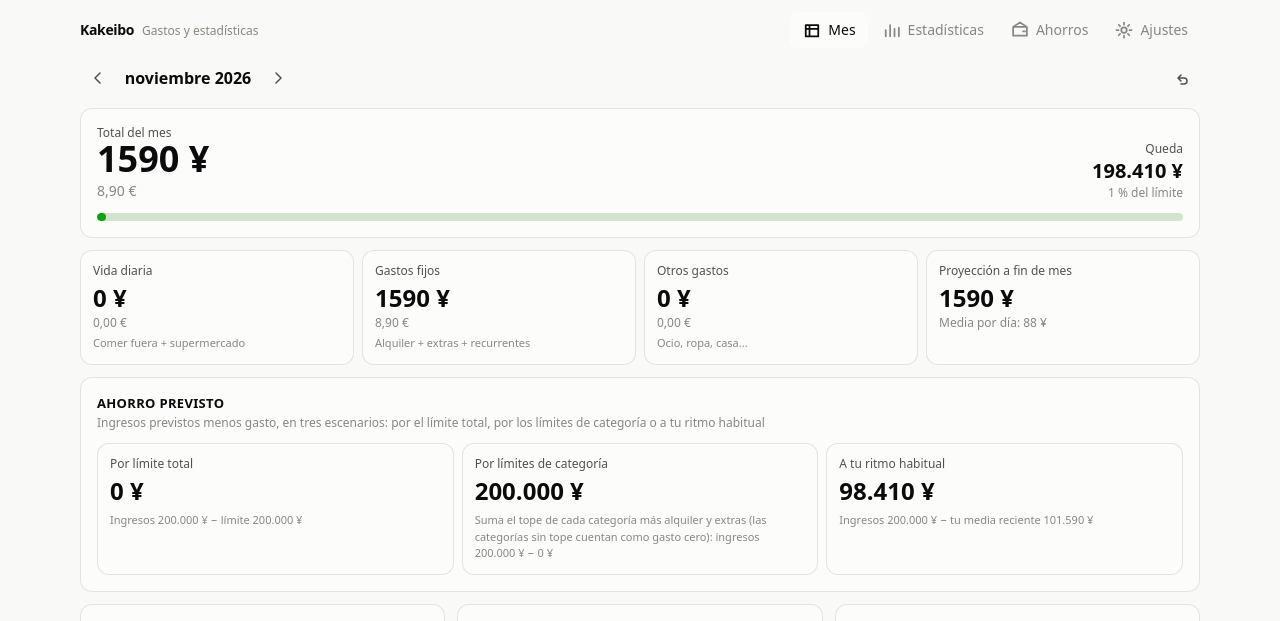
Test: la aplicacion › Ahorros ensena la prevision: tabla de escenarios, lo que viene y el examen del modelo
Click the button "Ahorros" at (1049, 30), box [998, 12, 1100, 48]
(page scrolled)
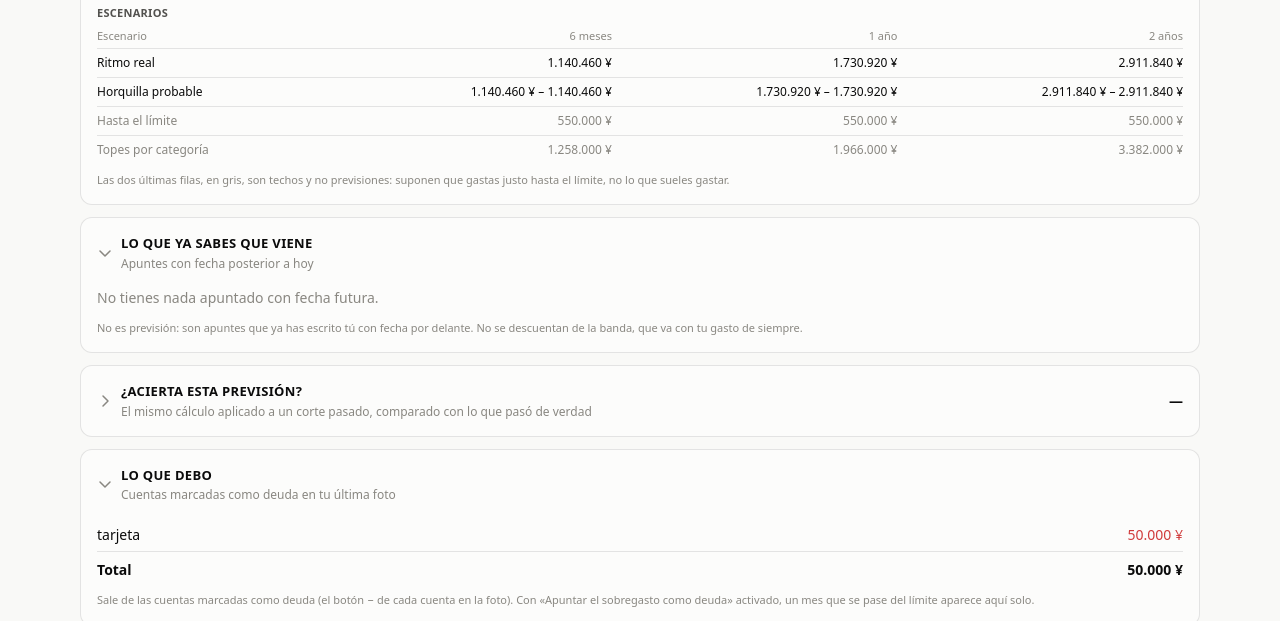
Now the column heading "Ritmo real" is shown, box [97, 48, 326, 77]
Now the column heading "Horquilla probable" is shown, box [97, 77, 326, 106]
Now the column heading "Hasta el límite" is shown, box [97, 106, 326, 135]
Click the button "Acierta esta previsión" at (212, 391), box [81, 366, 1199, 436]
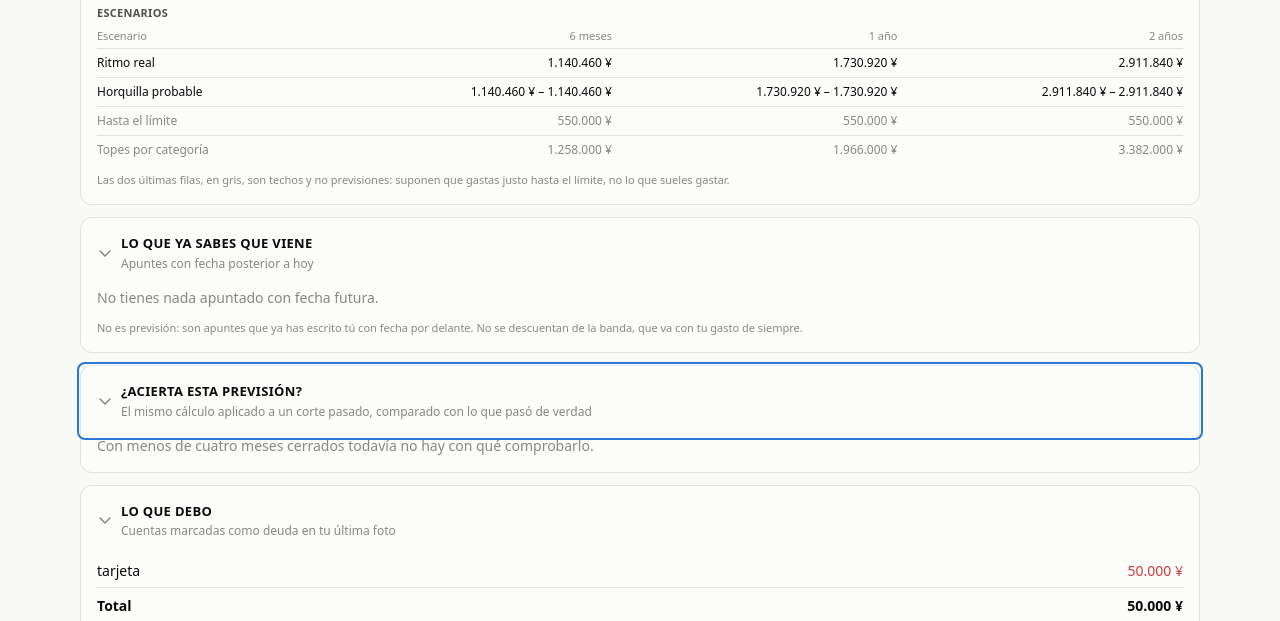
Now the text "menos de cuatro meses cerrados" is shown, box [97, 436, 594, 455]
